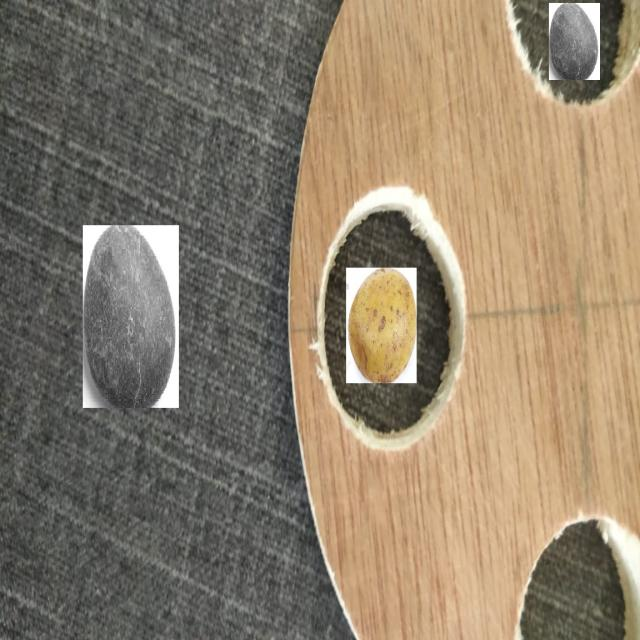potato: (349, 272, 414, 381)
